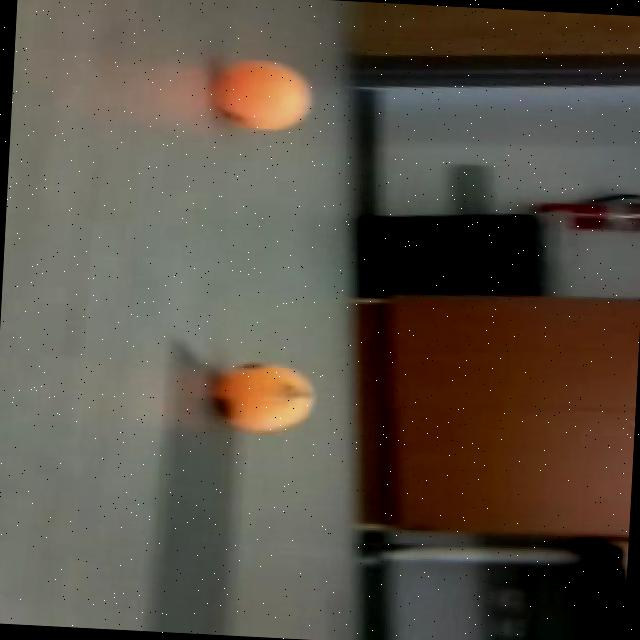ping-pong-ball: (202, 354, 316, 440), (202, 54, 318, 136)
